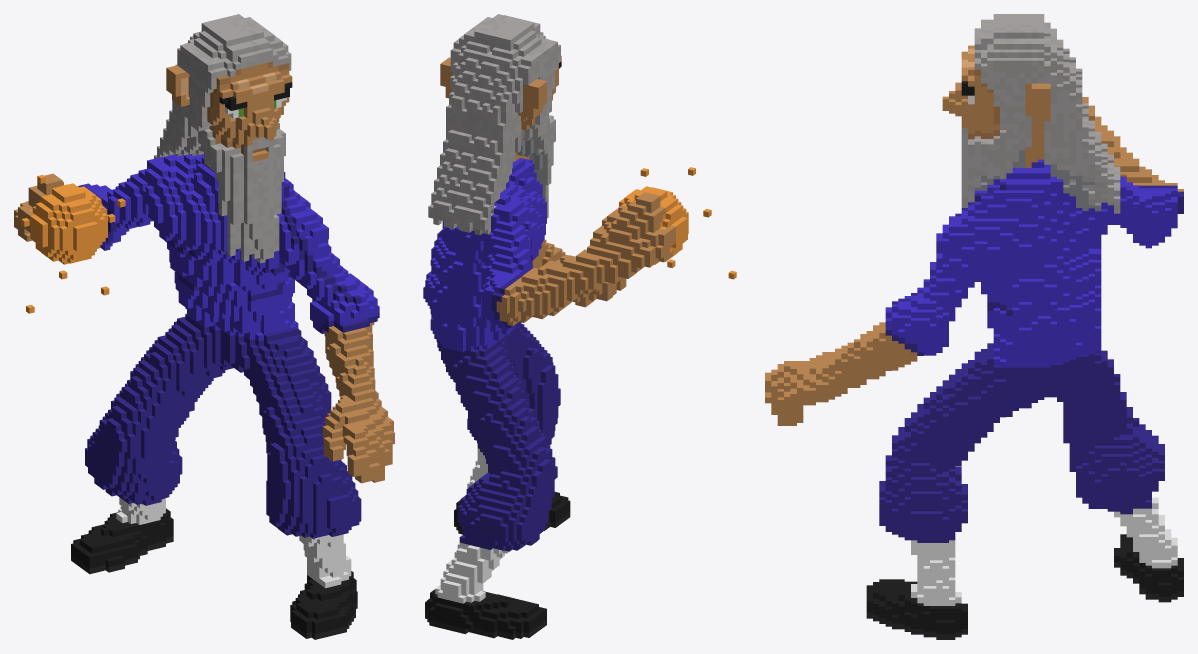
The model's file is wizard.glb.
3 renders of one model, left to right at view 1: azimuth 30°, elevation 25°; view 2: azimuth 150°, elevation 25°; view 3: azimuth 270°, elevation 25°, orthographic. The views are drawn at different scales.
Visible parts, largest first — view 1: 4; view 2: 4; view 3: 4.
Boxes of the visible parts, left/top/right/bottom form: 4: left=14, top=14, right=394, bottom=639; 4: left=423, top=14, right=736, bottom=639; 4: left=765, top=14, right=1183, bottom=639.
Size of the model in its own units: 5.8 by 10 by 6.6.
Materials: 1 (1 with a texture image).
